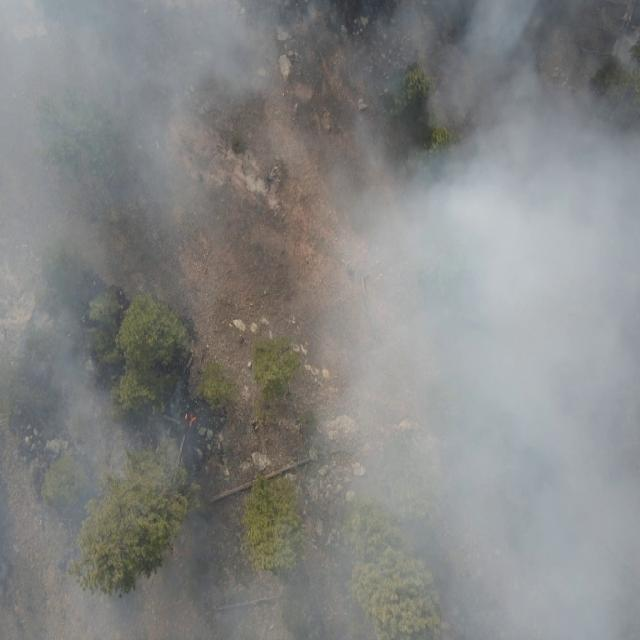fire: (182, 412, 198, 428)
smoke: (0, 0, 640, 640)
